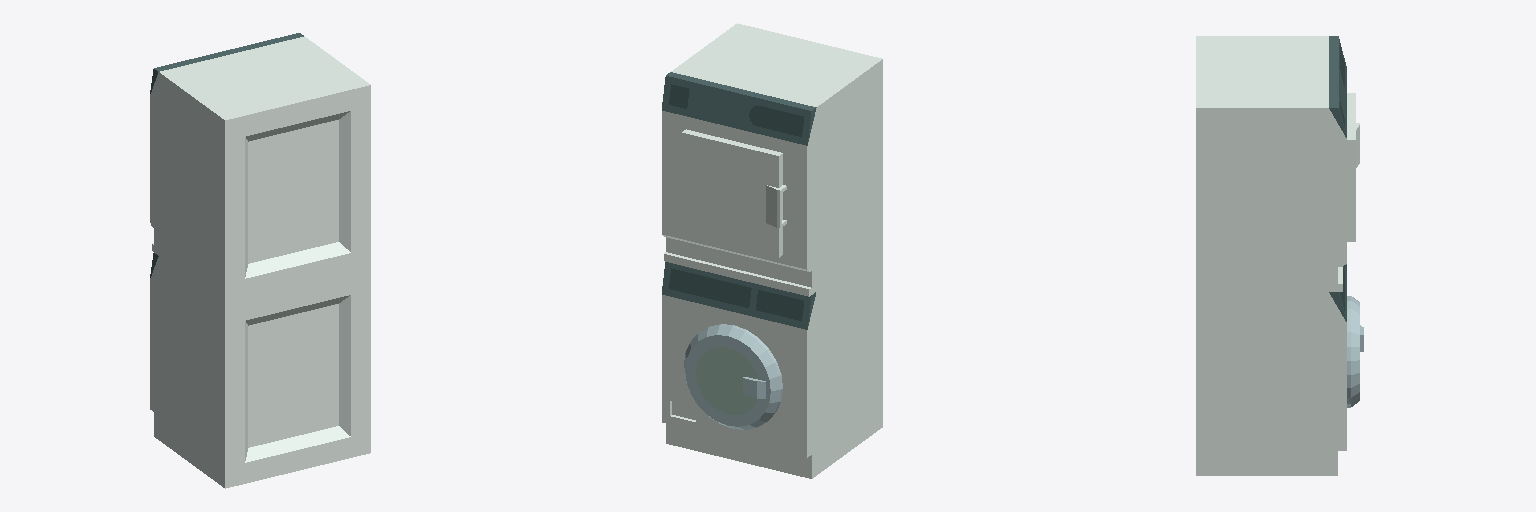
File: washerDryerStacked.obj
3 renders of one model, left to right at view 1: azimuth 30°, elevation 25°; view 2: azimuth 150°, elevation 25°; view 3: azimuth 270°, elevation 25°, orthographic.
Parts seen in each view (by area): view 1: washerDryerStacked; view 2: washerDryerStacked, dryerDoor, washerDoor; view 3: washerDryerStacked, dryerDoor, washerDoor.
Boxes of the visible parts, <box> form: washerDryerStacked: <box>150,33,370,488</box>; washerDryerStacked: <box>662,23,882,478</box>; dryerDoor: <box>682,129,786,257</box>; washerDoor: <box>684,324,782,429</box>; washerDryerStacked: <box>1196,36,1346,475</box>; dryerDoor: <box>1347,93,1359,241</box>; washerDoor: <box>1347,296,1363,407</box>.
Size of the model in its own units: 0.39 by 0.94 by 0.39.